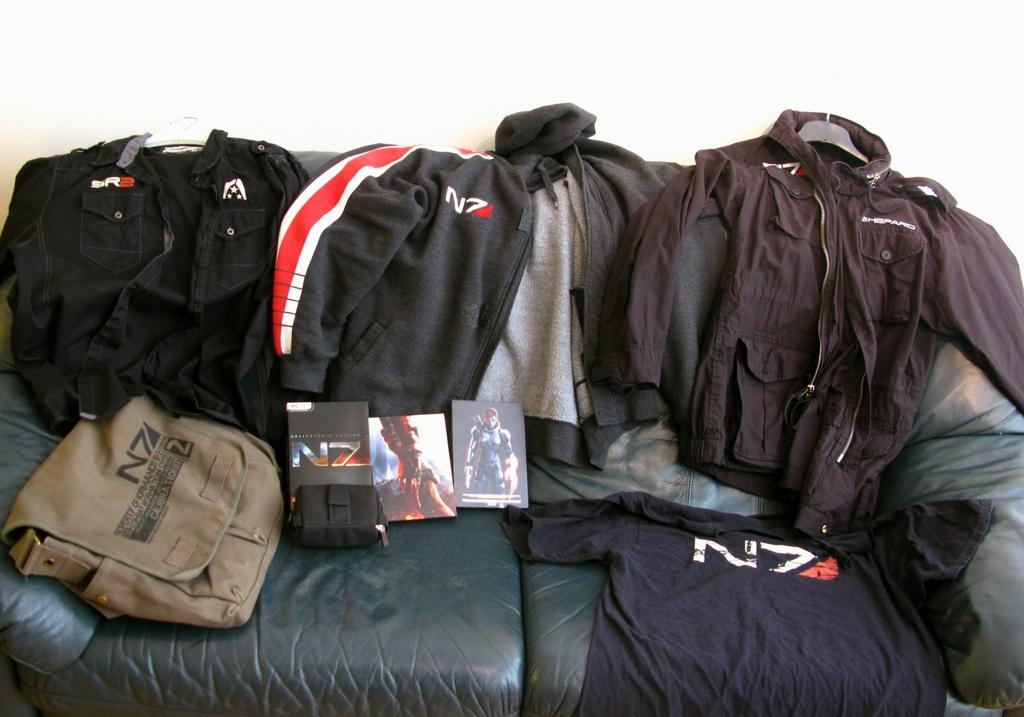Luggage-and-bags: (0, 109, 316, 436), (1, 375, 288, 649)
